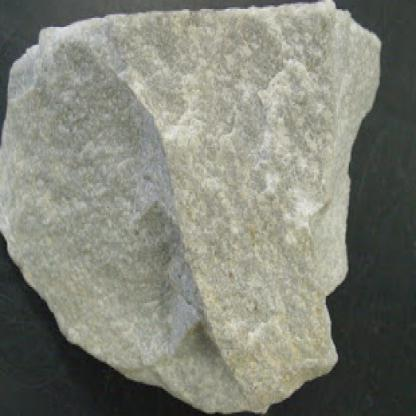Metamorphic_Quartize: (1, 0, 390, 414)
